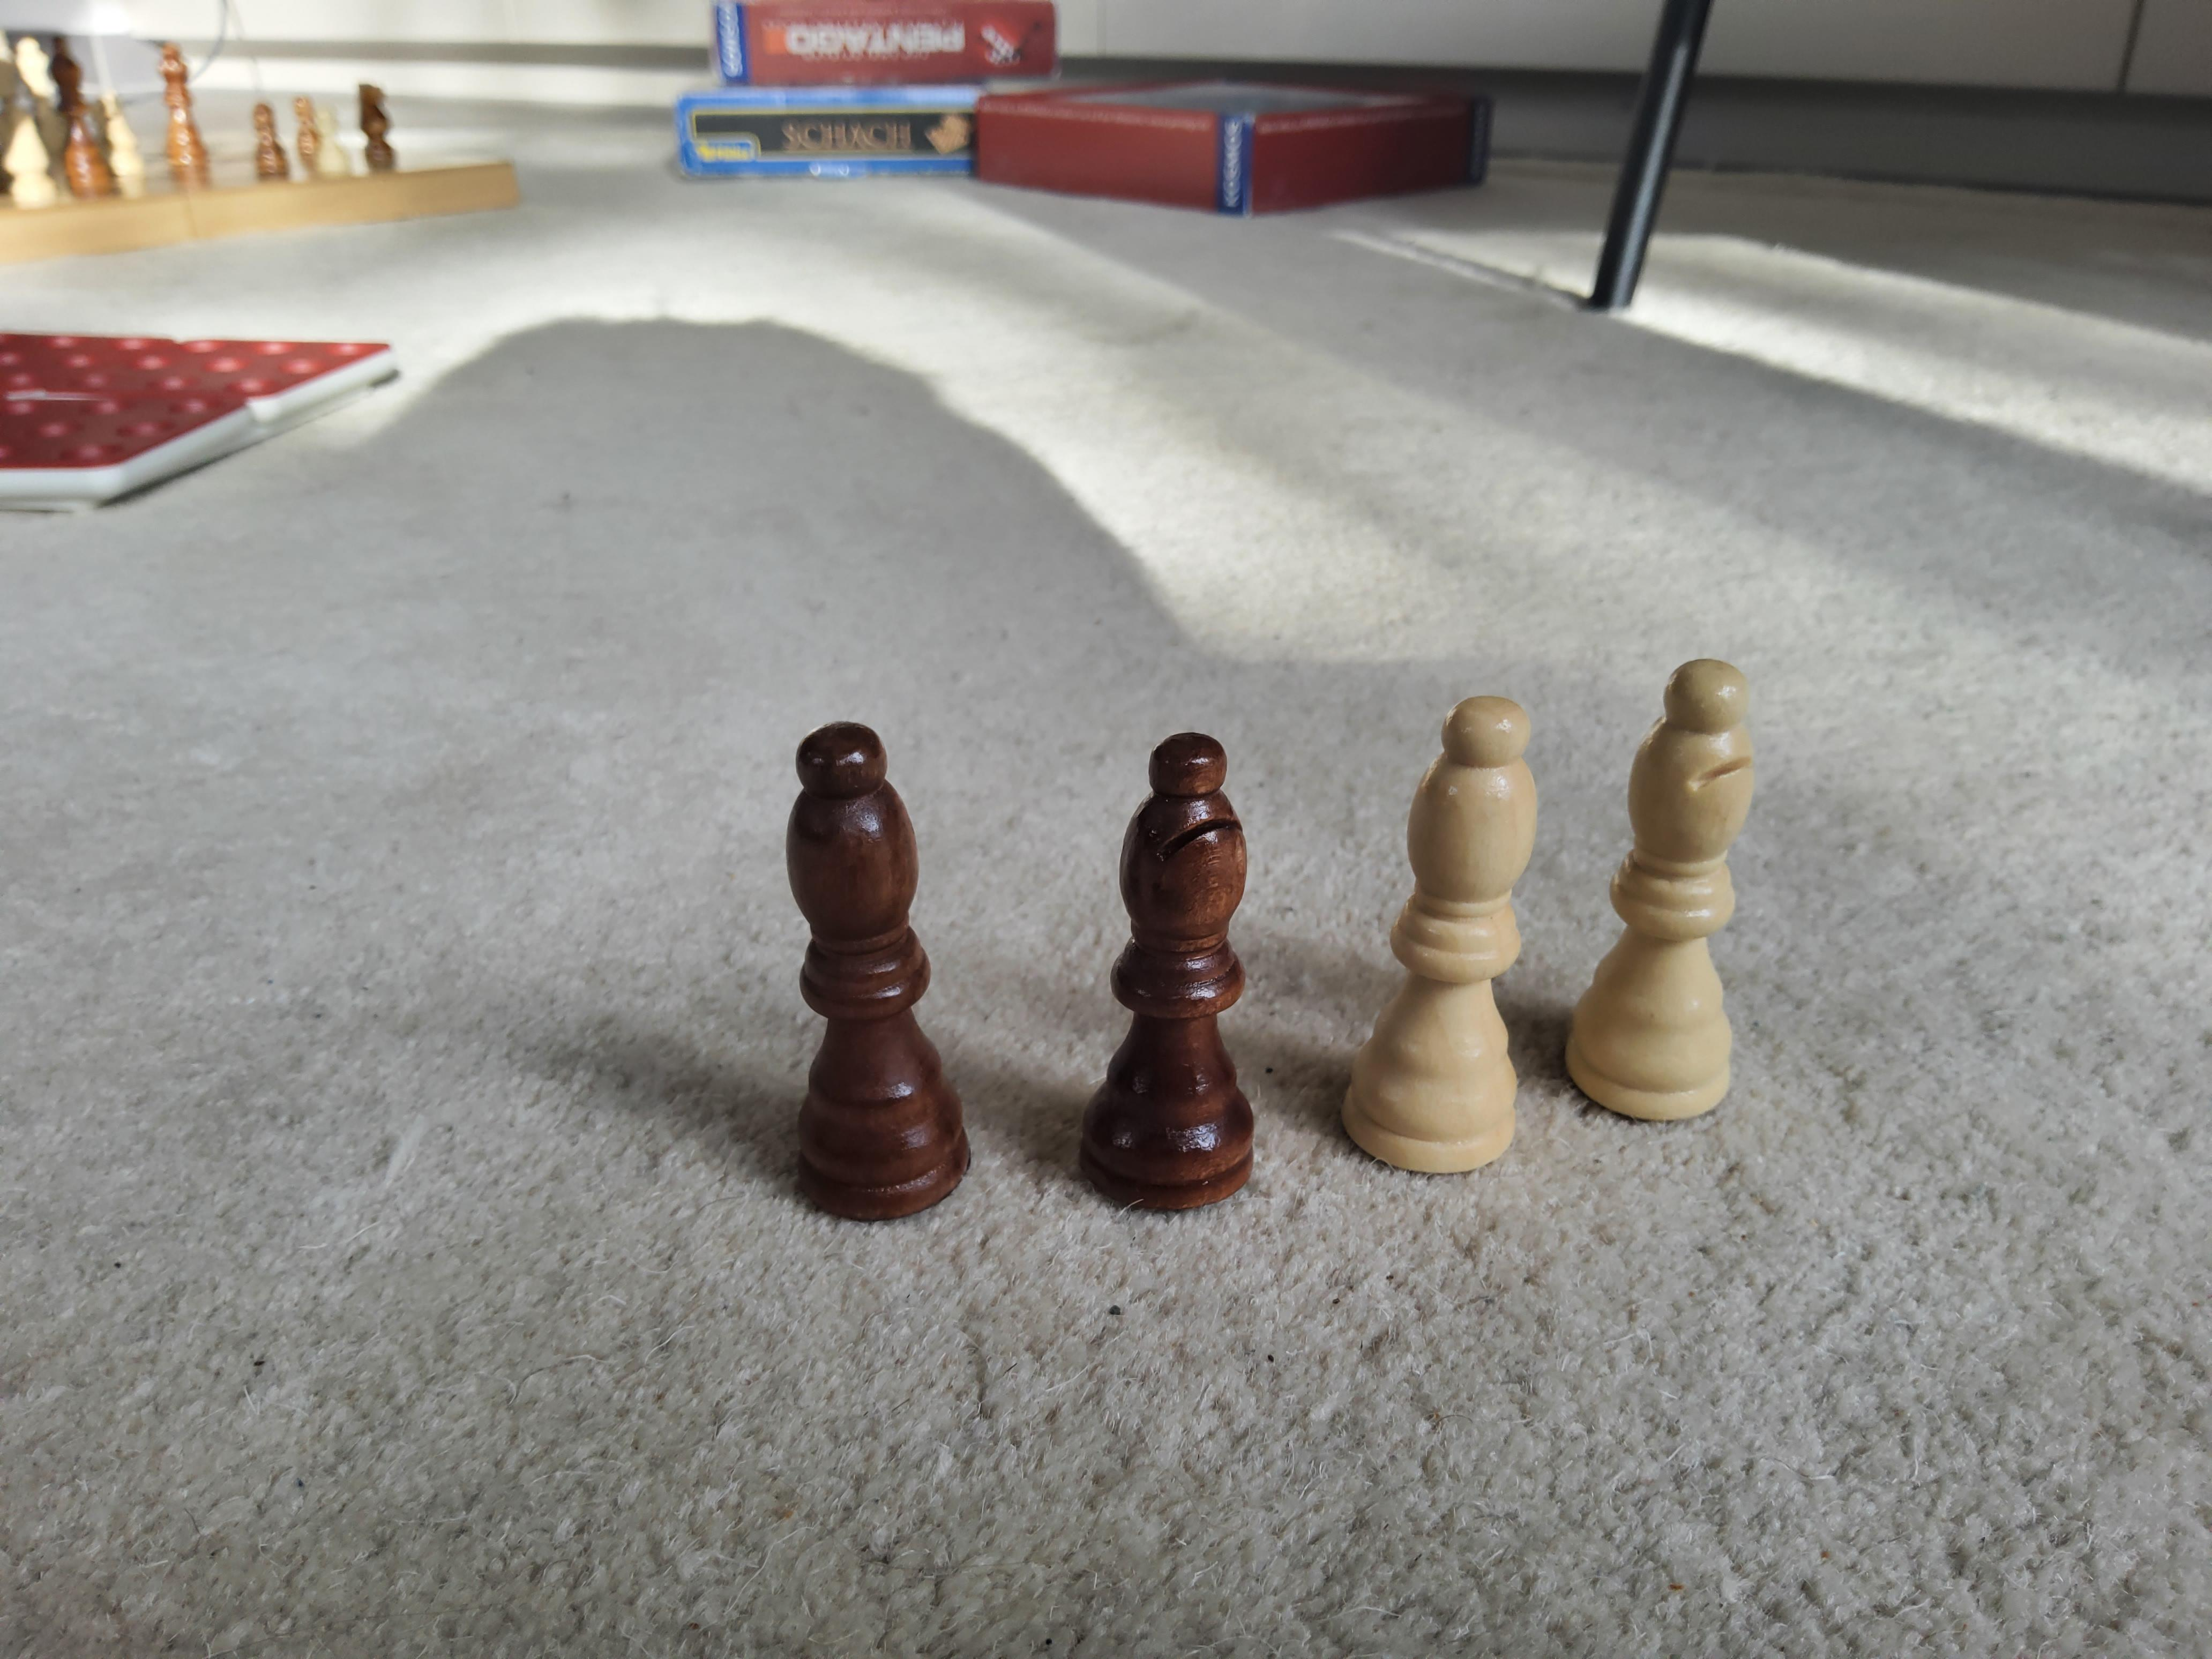pentago: (0, 321, 402, 523), (975, 96, 1498, 223), (718, 5, 1064, 85)
schaak: (0, 30, 526, 260), (772, 709, 984, 1216), (1094, 716, 1259, 1211), (1378, 688, 1533, 1178), (1594, 640, 1752, 1117), (678, 96, 970, 176)
